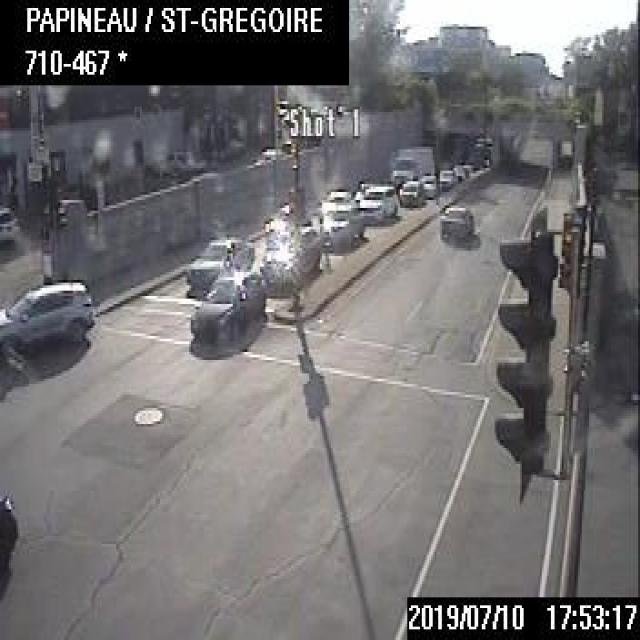vehicle: (0, 278, 93, 358), (186, 257, 268, 341), (257, 216, 322, 292), (184, 231, 254, 294), (321, 202, 365, 252), (386, 142, 434, 187), (358, 182, 399, 227), (0, 485, 16, 594), (438, 200, 473, 240), (0, 204, 22, 249), (397, 176, 421, 210), (436, 167, 456, 190)
